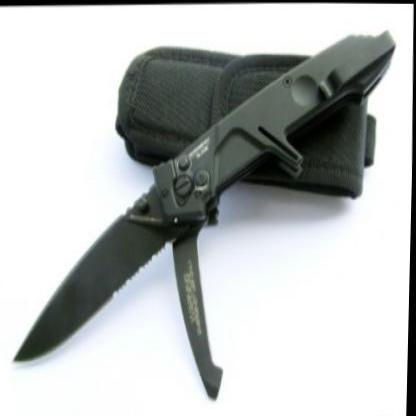knife: (7, 178, 173, 367)
